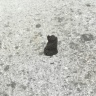Dog: (47, 35, 57, 55)
